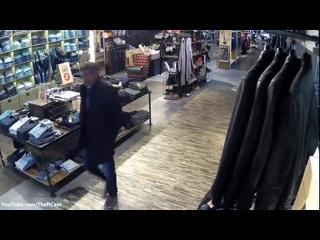Normal: (78, 61, 124, 208)
